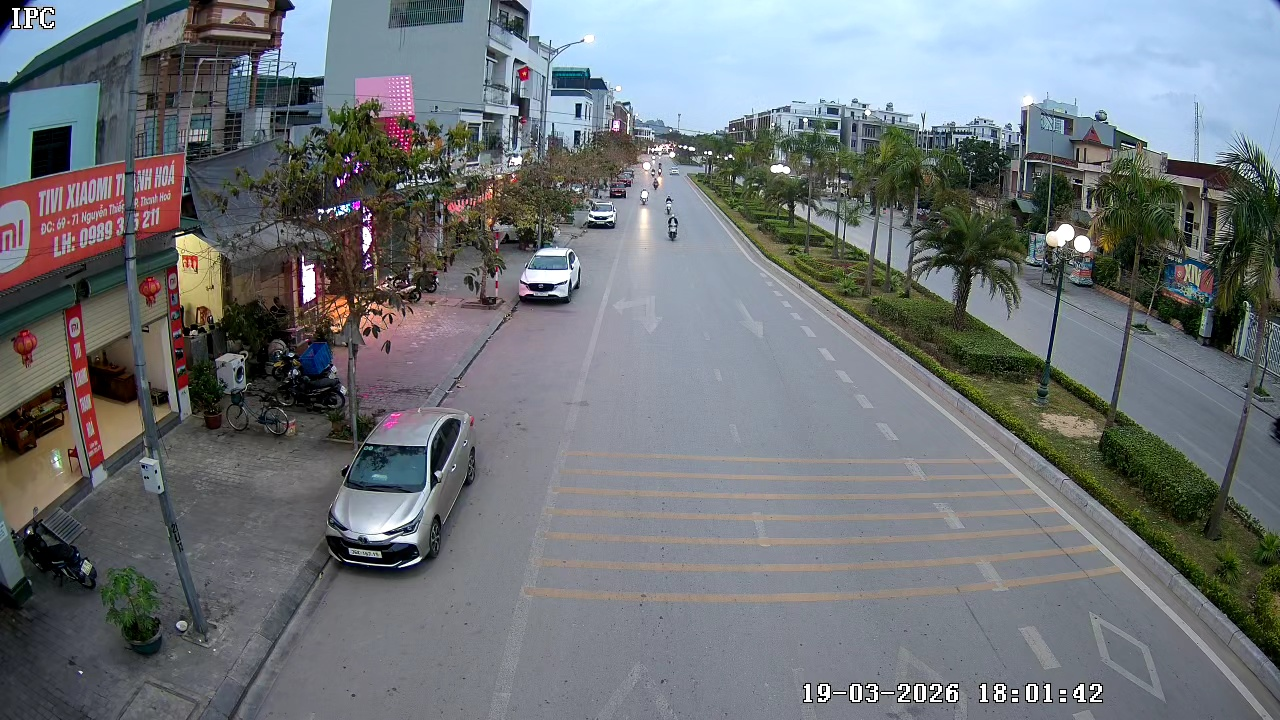car: (325, 406, 478, 572), (518, 246, 582, 304), (583, 199, 619, 229)
motorbike: (665, 203, 681, 242), (639, 187, 653, 207)
